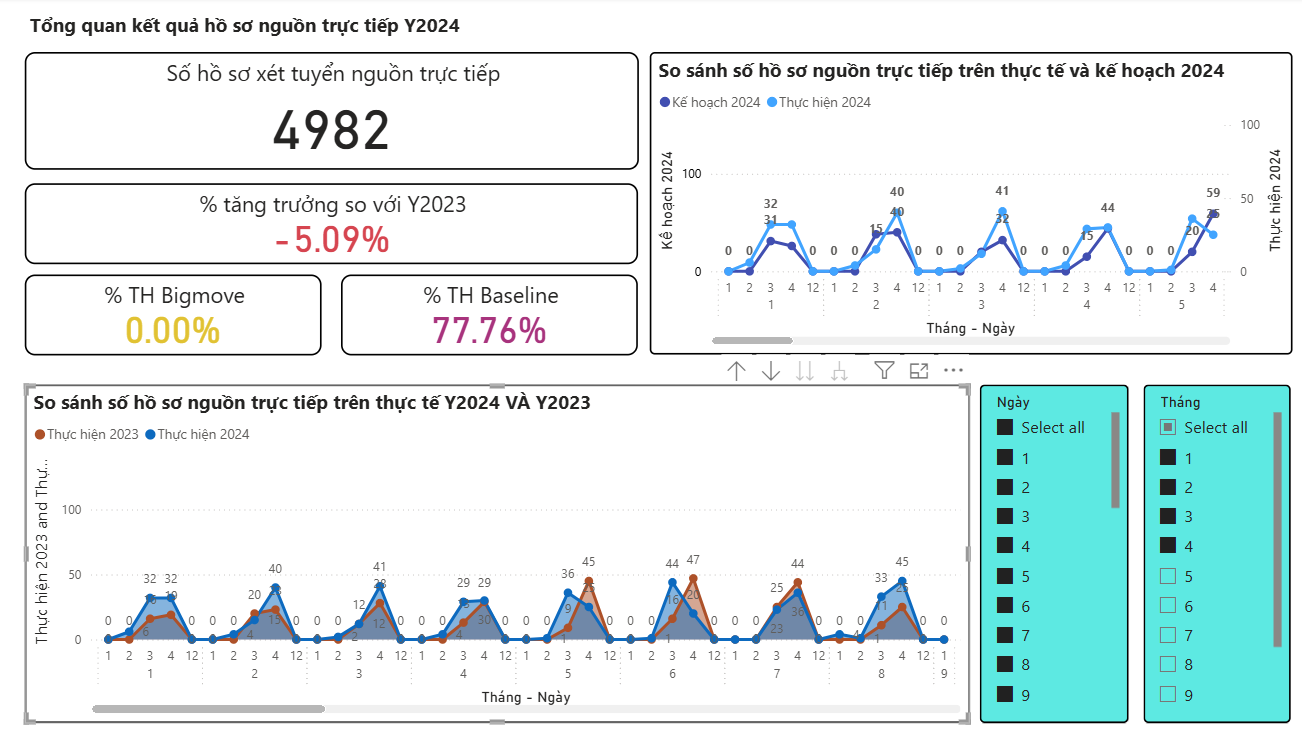

What the dashboard file says about the page in this screenshot:
{"tool":"powerbi","page":{"name":"APP_TT (Theo ngày)","canvas":[1280,720],"ordinal":5},"visuals":[{"type":"slicer","fields":{"Values":["DATA_APP.DayNumber"]},"box":[962.6,379.6,145.4,331.2],"z":0},{"type":"slicer","fields":{"Values":["DATA_APP.MonthNumber"]},"box":[1122.8,379.6,144,331.2],"z":1000},{"type":"card","title":"% tăng trưởng so với Y2023","fields":{"Values":["DATA_APP.APP_TT%_Y2023_2024(Fixed)"]},"box":[28.2,181.7,600,78.9],"z":2000},{"type":"card","title":"Số hồ sơ xét tuyển nguồn trực tiếp","fields":{"Values":["DATA_APP.APP_TT_Total(Fixed)"]},"box":[28.2,53.6,600.6,115.3],"z":3000},{"type":"card","title":"% TH Bigmove","fields":{"Values":["DATA_APP.APP_TT%BigMove(Fixed)"]},"box":[28.2,271.8,290.1,78.9],"z":4000},{"type":"card","title":"% TH Baseline","fields":{"Values":["DATA_APP.APP_TT%BaseLine(Fixed)"]},"box":[338,271.8,290.1,78.9],"z":5000},{"type":"lineChart","title":"So sánh số hồ sơ nguồn trực tiếp trên thực tế và kế hoạch 2024","fields":{"Category":["DATA_APP.DayNumber","DATA_APP.MonthNumber"],"Y":["Sum(DATA_APP.APP_TT_DD_BL2024)"],"Y2":["Sum(DATA_APP.APP_TT_DD_TH2024)"]},"box":[639.5,53.6,628.7,296.3],"z":6000},{"type":"areaChart","title":"So sánh số hồ sơ nguồn trực tiếp trên thực tế Y2024 VÀ Y2023","fields":{"Category":["DATA_APP.DayNumber","DATA_APP.MonthNumber"],"Y":["Sum(DATA_APP.APP_TT_DD_TH2023)","Sum(DATA_APP.APP_TT_DD_TH2024)"]},"box":[28.3,379.6,924.9,331.2],"z":7000},{"type":"textbox","box":[28.1,9.8,539.3,44],"z":8000}]}

Visuals, with their boxes in screenshot pixels (x1, y1, x2, y2), scaled from the page's 1280x720 canvas onto the 1302x730 screenshot:
slicer - DATA_APP.DayNumber: x1=979, y1=385, x2=1127, y2=721
slicer - DATA_APP.MonthNumber: x1=1142, y1=385, x2=1289, y2=721
"% tăng trưởng so với Y2023" card: x1=29, y1=184, x2=639, y2=264
"Số hồ sơ xét tuyển nguồn trực tiếp" card: x1=29, y1=54, x2=640, y2=171
"% TH Bigmove" card: x1=29, y1=276, x2=324, y2=356
"% TH Baseline" card: x1=344, y1=276, x2=639, y2=356
"So sánh số hồ sơ nguồn trực tiếp trên thực tế và kế hoạch 2024" lineChart: x1=650, y1=54, x2=1290, y2=355
"So sánh số hồ sơ nguồn trực tiếp trên thực tế Y2024 VÀ Y2023" areaChart: x1=29, y1=385, x2=970, y2=721
textbox: x1=29, y1=10, x2=577, y2=55
